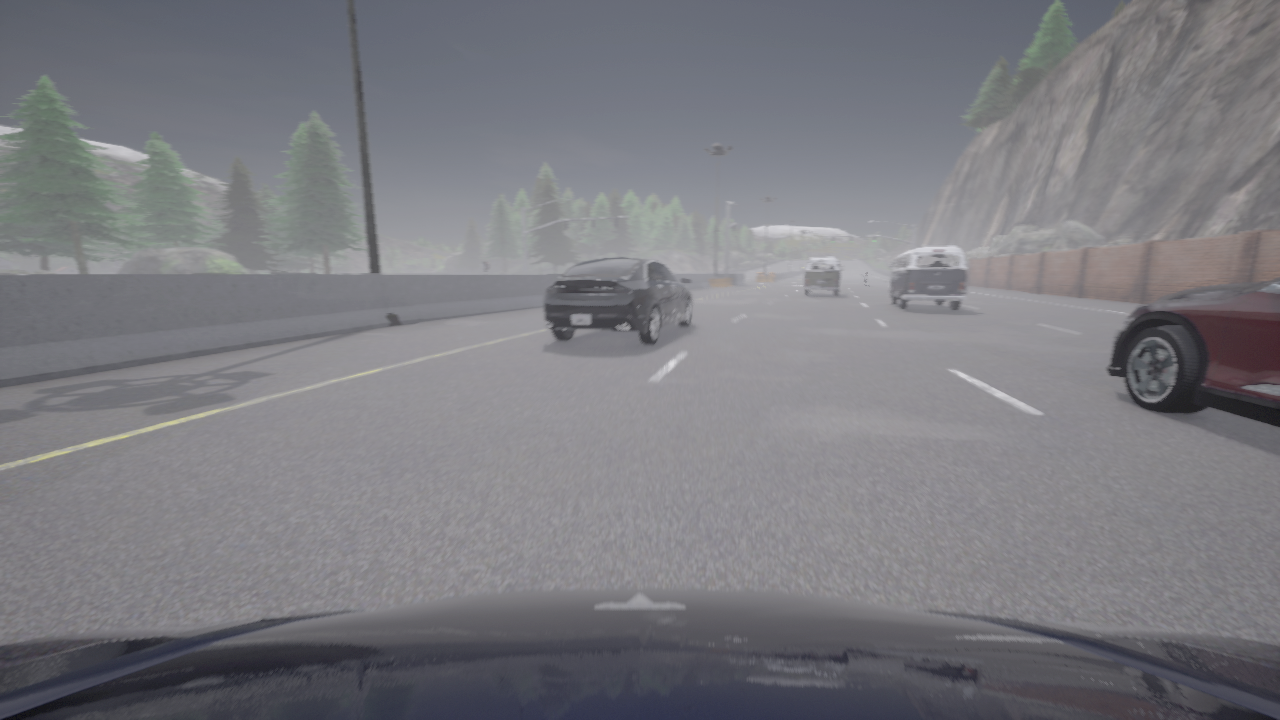cyclist: (0, 588, 1279, 719), (1106, 278, 1279, 428), (543, 256, 692, 344), (888, 246, 966, 310), (804, 257, 842, 295), (864, 275, 868, 285)
